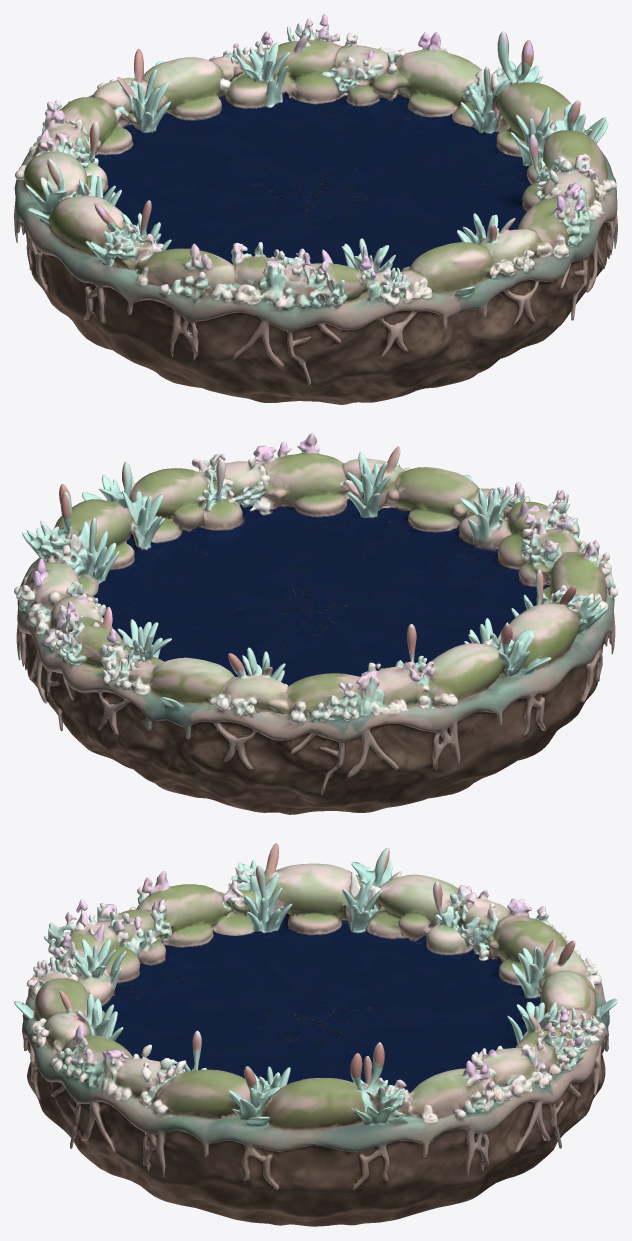
Rendered from pond.glb.
The picture shows the model from 3 angles, top to bottom: view 1: azimuth 30°, elevation 25°; view 2: azimuth 150°, elevation 25°; view 3: azimuth 270°, elevation 25°; orthographic projection. The views are drawn at different scales.
Size of the model in its own units: 1.86 by 0.8645 by 1.9.
Materials: 1 (1 with a texture image).
